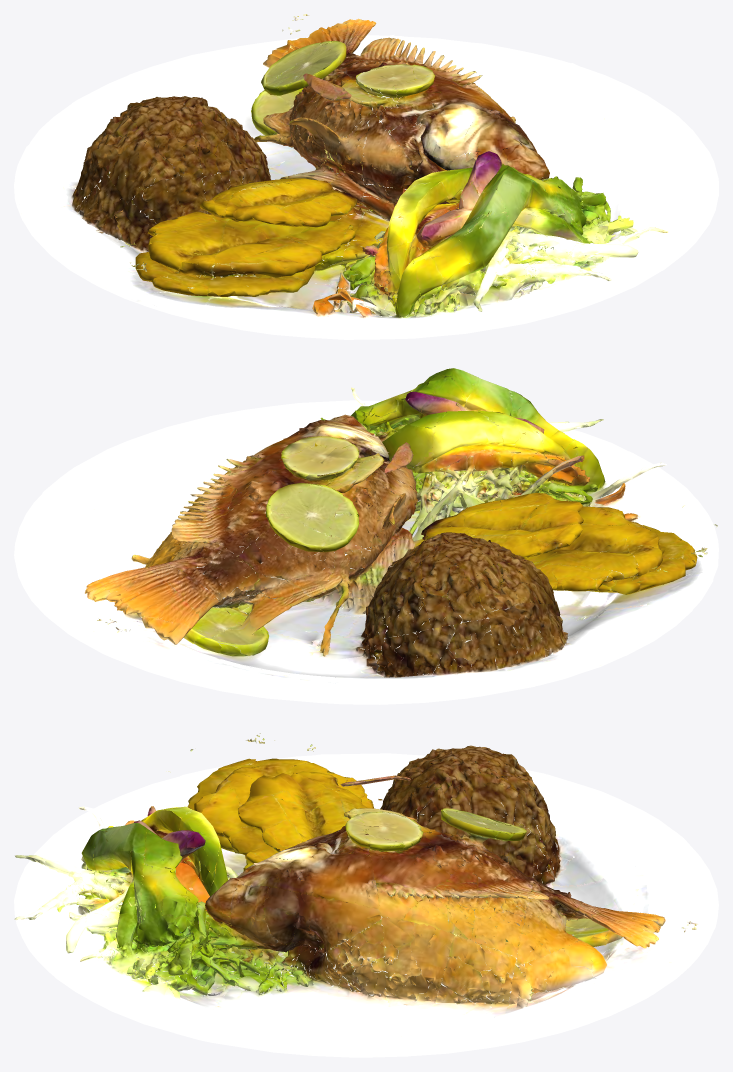
The picture shows the model from 3 angles, top to bottom: view 1: azimuth 30°, elevation 25°; view 2: azimuth 150°, elevation 25°; view 3: azimuth 270°, elevation 25°; orthographic projection.
Visible parts, largest first — view 1: Mesh_0.001; view 2: Mesh_0.001; view 3: Mesh_0.001.
Part boxes in pixels (box(x1,y1,x2,y2)): Mesh_0.001: box(14, 14, 718, 339); Mesh_0.001: box(14, 368, 718, 704); Mesh_0.001: box(14, 733, 718, 1057).
Bounding box in the file's own units: 1.9 × 0.4846 × 1.9.
Materials: 1 (1 with a texture image).
